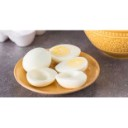begg: (57, 69, 86, 86), (27, 68, 55, 85), (50, 44, 79, 58)
